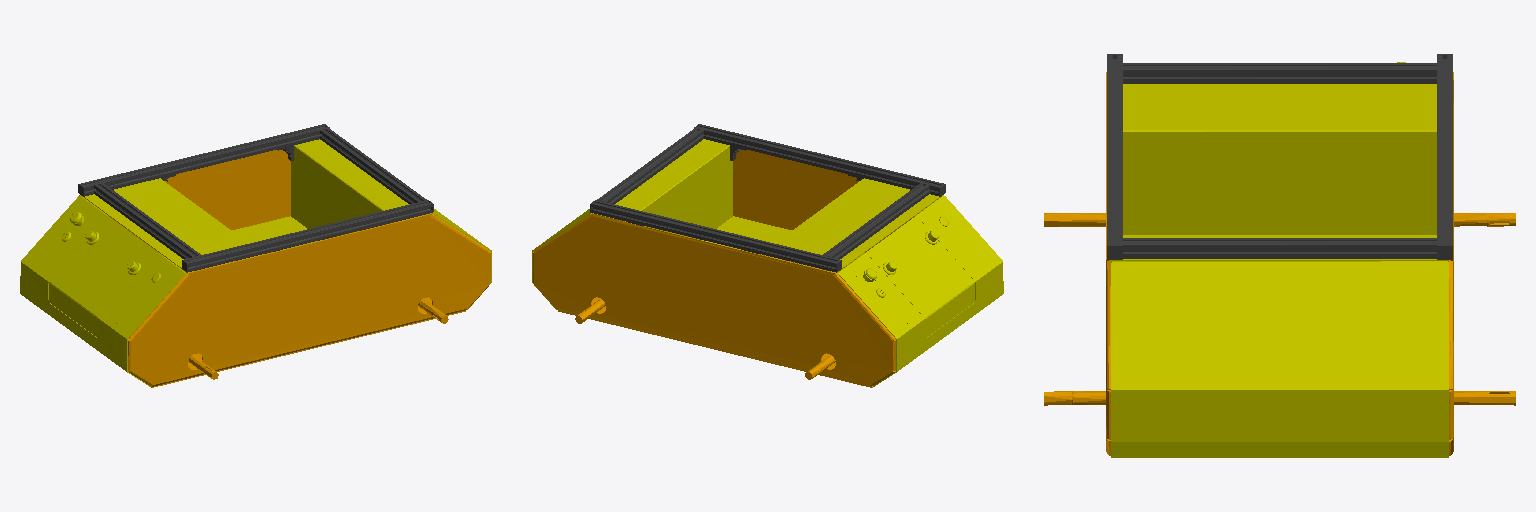
URDF robot description (husky_robot):
<?xml version="1.0" ?>
<!-- =================================================================================== -->
<!-- |    This document was autogenerated by xacro from ../urdf/husky.urdf.xacro       | -->
<!-- |    EDITING THIS FILE BY HAND IS NOT RECOMMENDED                                 | -->
<!-- =================================================================================== -->
<!--
Software License Agreement (BSD)

\file      husky.urdf.xacro
\authors   [author] <[email redacted]>
\copyright Copyright (c) 2015, Clearpath Robotics, Inc., All rights reserved.

Redistribution and use in source and binary forms, with or without modification, are permitted provided that
the following conditions are met:
 * Redistributions of source code must retain the above copyright notice, this list of conditions and the
   following disclaimer.
 * Redistributions in binary form must reproduce the above copyright notice, this list of conditions and the 
   following disclaimer in the documentation and/or other materials provided with the distribution.
 * Neither the name of Clearpath Robotics nor the names of its contributors may be used to endorse or promote
   products derived from this software without specific prior written permission.

THIS SOFTWARE IS PROVIDED BY THE COPYRIGHT [author] "AS IS" AND ANY EXPRESS OR IMPLIED WAR-
RANTIES, INCLUDING, BUT NOT LIMITED TO, THE IMPLIED WARRANTIES OF MERCHANTABILITY AND FITNESS FOR A PARTICULAR
PURPOSE ARE DISCLAIMED. IN NO EVENT SHALL THE COPYRIGHT [author] LIABLE FOR ANY DIRECT, IN-
DIRECT, INCIDENTAL, SPECIAL, EXEMPLARY, OR CONSEQUENTIAL DAMAGES (INCLUDING, BUT NOT LIMITED TO, PROCUREMENT
OF SUBSTITUTE GOODS OR SERVICES; LOSS OF USE, DATA, OR PROFITS; OR BUSINESS INTERRUPTION) HOWEVER CAUSED AND
ON ANY THEORY OF LIABILITY, WHETHER IN CONTRACT, STRICT LIABILITY, OR TORT (INCLUDING NEGLIGENCE OR OTHERWISE)
ARISING IN ANY WAY OUT OF THE USE OF THIS SOFTWARE, EVEN IF ADVISED OF THE POSSIBILITY OF SUCH DAMAGE.
-->
<robot name="husky_robot" xmlns:xacro="http://ros.org/wiki/xacro">
  <!-- Included URDF/XACRO Files -->
  <material name="Black">
    <color rgba="0.1 0.1 0.1 1.0"/>
  </material>
  <material name="Blue">
    <color rgba="0.0 0.0 0.8 1.0"/>
  </material>
  <material name="Green">
    <color rgba="0.0 0.8 0.0 1.0"/>
  </material>
  <material name="Grey">
    <color rgba="0.7 0.7 0.7 1.0"/>
  </material>
  <material name="DarkGrey">
    <color rgba="0.3 0.3 0.3 1.0"/>
  </material>
  <material name="Red">
    <color rgba="0.8 0.0 0.0 1.0"/>
  </material>
  <material name="White">
    <color rgba="1.0 1.0 1.0 1.0"/>
  </material>
  <material name="Yellow">
    <color rgba="0.8 0.8 0.0 1.0"/>
  </material>
  <!-- Base Size -->
  <!-- Wheel Mounting Positions -->
  <!-- Wheel Properties -->
  
  <!-- Chassis link is the center of the robot's bottom plate -->
  <link name="base_link">
    <visual>
      <origin rpy="0 0 0" xyz="0 0 0"/>
      <geometry>
        <mesh filename="meshes/base_link.obj"/>
      </geometry>
      <!--<material name="Black"/>-->
    </visual>
    <collision>
      <origin rpy="0 0 0" xyz="0 0 0"/>
      <geometry>
        <mesh filename="meshes/base_link.obj"/>
      </geometry>
    </collision>
    <inertial>
      <mass value="33.455"/>
      <origin xyz="-0.08748 -0.00085 0.09947"/>
      <inertia ixx="0.6022" ixy="-0.02364" ixz="-0.1197" iyy="1.7386" iyz="-0.001544" izz="2.0296"/>
    </inertial>
  </link>
  
  <!-- Husky wheel macros -->
  <link name="front_left_wheel_link">
  	<contact>
      <lateral_friction value="1.0"/>
      <rolling_friction value="0.0"/>
      <stiffness value="30000"/>
      <damping value="1000"/>
    </contact>
    
    <inertial>
      <mass value="2.637"/>
      <origin xyz="0 0 0"/>
      <inertia ixx="0.02467" ixy="0" ixz="0" iyy="0.02467" iyz="0" izz="0.04411"/>
    </inertial>
    <visual>
      <origin rpy="0 0 0" xyz="0 0 0"/>
      <geometry>
        <mesh filename="meshes/wheel.stl"/>
      </geometry>
      <material name="DarkGrey"/>
    </visual>
    <collision>
      <origin rpy="1.570795 0 0" xyz="0 0 0"/>
      <geometry>
        <cylinder length="0.1143" radius="0.17775"/>
      </geometry>
    </collision>
  </link>
  <gazebo reference="front_left_wheel_link">
    <mu1 value="1.0"/>
    <mu2 value="1.0"/>
    <kp value="10000000.0"/>
    <kd value="1.0"/>
    <fdir1 value="1 0 0"/>
    <material>Gazebo/Grey</material>
    <turnGravityOff>false</turnGravityOff>
  </gazebo>
  <joint name="front_left_wheel" type="continuous">
    <parent link="base_link"/>
    <child link="front_left_wheel_link"/>
    <origin rpy="0 0 0" xyz="0.256 0.2854 0.03282"/>
    <axis rpy="0 0 0" xyz="0 1 0"/>
  </joint>
  <transmission name="front_left_wheel_trans" type="SimpleTransmission">
    <type>transmission_interface/SimpleTransmission</type>
    <actuator name="front_left_wheel_motor">
      <mechanicalReduction>1</mechanicalReduction>
    </actuator>
    <joint name="front_left_wheel">
      <hardwareInterface>VelocityJointInterface</hardwareInterface>
    </joint>
  </transmission>
  <link name="front_right_wheel_link">
    <contact>
      <lateral_friction value="1.0"/>
      <rolling_friction value="0.0"/>
      <stiffness value="30000"/>
      <damping value="1000"/>
    </contact>
    
    <inertial>
      <mass value="2.637"/>
      <origin xyz="0 0 0"/>
      <inertia ixx="0.02467" ixy="0" ixz="0" iyy="0.02467" iyz="0" izz="0.04411"/>
    </inertial>
    <visual>
      <origin rpy="0 0 0" xyz="0 0 0"/>
      <geometry>
        <mesh filename="meshes/wheel.stl"/>
      </geometry>
      <material name="DarkGrey"/>
    </visual>
    <collision>
      <origin rpy="1.570795 0 0" xyz="0 0 0"/>
      <geometry>
        <cylinder length="0.1143" radius="0.17775"/>
      </geometry>
    </collision>
  </link>
  <gazebo reference="front_right_wheel_link">
    <mu1 value="1.0"/>
    <mu2 value="1.0"/>
    <kp value="10000000.0"/>
    <kd value="1.0"/>
    <fdir1 value="1 0 0"/>
    <material>Gazebo/Grey</material>
    <turnGravityOff>false</turnGravityOff>
  </gazebo>
  <joint name="front_right_wheel" type="continuous">
    <parent link="base_link"/>
    <child link="front_right_wheel_link"/>
    <origin rpy="0 0 0" xyz="0.256 -0.2854 0.03282"/>
    <axis rpy="0 0 0" xyz="0 1 0"/>
  </joint>
  <transmission name="front_right_wheel_trans" type="SimpleTransmission">
    <type>transmission_interface/SimpleTransmission</type>
    <actuator name="front_right_wheel_motor">
      <mechanicalReduction>1</mechanicalReduction>
    </actuator>
    <joint name="front_right_wheel">
      <hardwareInterface>VelocityJointInterface</hardwareInterface>
    </joint>
  </transmission>
  <link name="rear_left_wheel_link">
    <contact>
      <lateral_friction value="1.0"/>
      <rolling_friction value="0.0"/>
      <stiffness value="30000"/>
      <damping value="1000"/>
    </contact>
    
    <inertial>
      <mass value="2.637"/>
      <origin xyz="0 0 0"/>
      <inertia ixx="0.02467" ixy="0" ixz="0" iyy="0.02467" iyz="0" izz="0.04411"/>
    </inertial>
    <visual>
      <origin rpy="0 0 0" xyz="0 0 0"/>
      <geometry>
        <mesh filename="meshes/wheel.stl"/>
      </geometry>
      <material name="DarkGrey"/>
    </visual>
    <collision>
      <origin rpy="1.570795 0 0" xyz="0 0 0"/>
      <geometry>
        <cylinder length="0.1143" radius="0.17775"/>
      </geometry>
    </collision>
  </link>
  <gazebo reference="rear_left_wheel_link">
    <mu1 value="1.0"/>
    <mu2 value="1.0"/>
    <kp value="10000000.0"/>
    <kd value="1.0"/>
    <fdir1 value="1 0 0"/>
    <material>Gazebo/Grey</material>
    <turnGravityOff>false</turnGravityOff>
  </gazebo>
  <joint name="rear_left_wheel" type="continuous">
    <parent link="base_link"/>
    <child link="rear_left_wheel_link"/>
    <origin rpy="0 0 0" xyz="-0.256 0.2854 0.03282"/>
    <axis rpy="0 0 0" xyz="0 1 0"/>
  </joint>
  <transmission name="rear_left_wheel_trans" type="SimpleTransmission">
    <type>transmission_interface/SimpleTransmission</type>
    <actuator name="rear_left_wheel_motor">
      <mechanicalReduction>1</mechanicalReduction>
    </actuator>
    <joint name="rear_left_wheel">
      <hardwareInterface>VelocityJointInterface</hardwareInterface>
    </joint>
  </transmission>
  <link name="rear_right_wheel_link">
    <contact>
      <lateral_friction value="1.0"/>
      <rolling_friction value="0.0"/>
      <stiffness value="30000"/>
      <damping value="1000"/>
    </contact>
    
    <inertial>
      <mass value="2.637"/>
      <origin xyz="0 0 0"/>
      <inertia ixx="0.02467" ixy="0" ixz="0" iyy="0.02467" iyz="0" izz="0.04411"/>
    </inertial>
    <visual>
      <origin rpy="0 0 0" xyz="0 0 0"/>
      <geometry>
        <mesh filename="meshes/wheel.stl"/>
      </geometry>
      <material name="DarkGrey"/>
    </visual>
    <collision>
      <origin rpy="1.570795 0 0" xyz="0 0 0"/>
      <geometry>
        <cylinder length="0.1143" radius="0.17775"/>
      </geometry>
    </collision>
  </link>
  <gazebo reference="rear_right_wheel_link">
    <mu1 value="1.0"/>
    <mu2 value="1.0"/>
    <kp value="10000000.0"/>
    <kd value="1.0"/>
    <fdir1 value="1 0 0"/>
    <material>Gazebo/Grey</material>
    <turnGravityOff>false</turnGravityOff>
  </gazebo>
  <joint name="rear_right_wheel" type="continuous">
    <parent link="base_link"/>
    <child link="rear_right_wheel_link"/>
    <origin rpy="0 0 0" xyz="-0.256 -0.2854 0.03282"/>
    <axis rpy="0 0 0" xyz="0 1 0"/>
  </joint>
  <transmission name="rear_right_wheel_trans" type="SimpleTransmission">
    <type>transmission_interface/SimpleTransmission</type>
    <actuator name="rear_right_wheel_motor">
      <mechanicalReduction>1</mechanicalReduction>
    </actuator>
    <joint name="rear_right_wheel">
      <hardwareInterface>VelocityJointInterface</hardwareInterface>
    </joint>
  </transmission>
  <link name="top_plate_link">
    <visual>
      <origin rpy="0 0 0" xyz="0 0 0"/>
      <geometry>
        <mesh filename="meshes/top_plate.obj"/>
      </geometry>
      <material name="Yellow"/>
    </visual>
     <collision>
      <origin rpy="0 0 0" xyz="0 0 0"/>
      <geometry>
        <mesh filename="meshes/top_plate.obj"/>
      </geometry>
    </collision>
  </link>
  <joint name="top_plate" type="fixed">
    <parent link="base_link"/>
    <child link="top_plate_link"/>
  </joint>
  <gazebo reference="top_plate_link">
    <material>Gazebo/Yellow</material>
  </gazebo>
  <link name="user_rail_link">
    <visual>
      <geometry>
        <mesh filename="meshes/user_rail.obj"/>
      </geometry>
      <material name="DarkGrey"/>
    </visual>
    <collision>
      <geometry>
        <mesh filename="meshes/user_rail.obj"/>
      </geometry>
    </collision>
  </link>
  <joint name="user_rail" type="fixed">
    <origin rpy="0 0 0" xyz="0.272 0 0.245"/>
    <parent link="base_link"/>
    <child link="user_rail_link"/>
  </joint>
  <gazebo reference="user_rail_link">
    <material>Gazebo/DarkGrey</material>
  </gazebo>
  <link name="front_bumper_link">
    <visual>
      <geometry>
        <mesh filename="meshes/bumper.stl"/>
      </geometry>
      <material name="DarkGrey"/>
    </visual>
    <collision>
      <geometry>
        <mesh filename="meshes/bumper.stl"/>
      </geometry>
    </collision>
  </link>
  <joint name="front_bumper" type="fixed">
    <origin rpy="0 0 0" xyz="0.48 0 0.091"/>
    <parent link="base_link"/>
    <child link="front_bumper_link"/>
  </joint>
  <gazebo reference="front_bumper_link">
    <material>Gazebo/DarkGrey</material>
  </gazebo>
  <link name="rear_bumper_link">
    <visual>
      <geometry>
        <mesh filename="meshes/bumper.stl"/>
      </geometry>
      <material name="DarkGrey"/>
    </visual>
    <collision>
      <geometry>
        <mesh filename="meshes/bumper.stl"/>
      </geometry>
    </collision>
  </link>
  <joint name="rear_bumper" type="fixed">
    <origin rpy="0 0 3.14159" xyz="-0.48 0 0.091"/>
    <parent link="base_link"/>
    <child link="rear_bumper_link"/>
  </joint>
  <gazebo reference="rear_bumper_link">
    <material>Gazebo/DarkGrey</material>
  </gazebo>
</robot>

--- What the picture shows (computed from the rendered views, not written in the file) ---
The picture shows the robot from 3 angles, left to right: view 1: azimuth 30°, elevation 25°; view 2: azimuth 150°, elevation 25°; view 3: azimuth 270°, elevation 25°; orthographic projection.
Robot: husky_robot — 9 links, 8 joints (4 continuous, 4 fixed); root link base_link; default pose: every joint at zero.
Links seen in each view (by area): view 1: base_link, top_plate_link, user_rail_link; view 2: base_link, top_plate_link, user_rail_link; view 3: top_plate_link, user_rail_link, base_link.
Boxes of the visible links, left/top/right/bottom form: base_link: left=79, top=150, right=490, bottom=387; top_plate_link: left=20, top=139, right=491, bottom=386; user_rail_link: left=78, top=124, right=433, bottom=272; base_link: left=533, top=150, right=941, bottom=387; top_plate_link: left=532, top=139, right=1003, bottom=386; user_rail_link: left=590, top=124, right=945, bottom=272; top_plate_link: left=1109, top=62, right=1450, bottom=457; user_rail_link: left=1107, top=54, right=1452, bottom=259; base_link: left=1044, top=72, right=1515, bottom=455.
Bounding box of the posed robot: 0.8119 × 0.571 × 0.2492 m (x, y, z).
3 mesh visuals loaded from 5 distinct referenced files (3 OBJ); not drawn: 6 (reference not matched to a file when rendering).